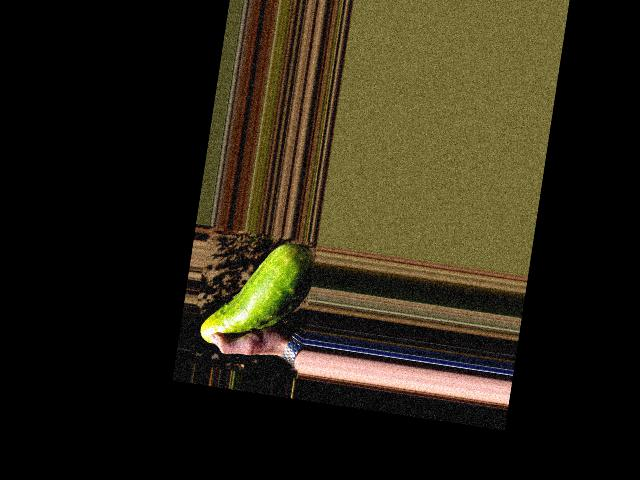cucumber: (199, 231, 318, 356)
